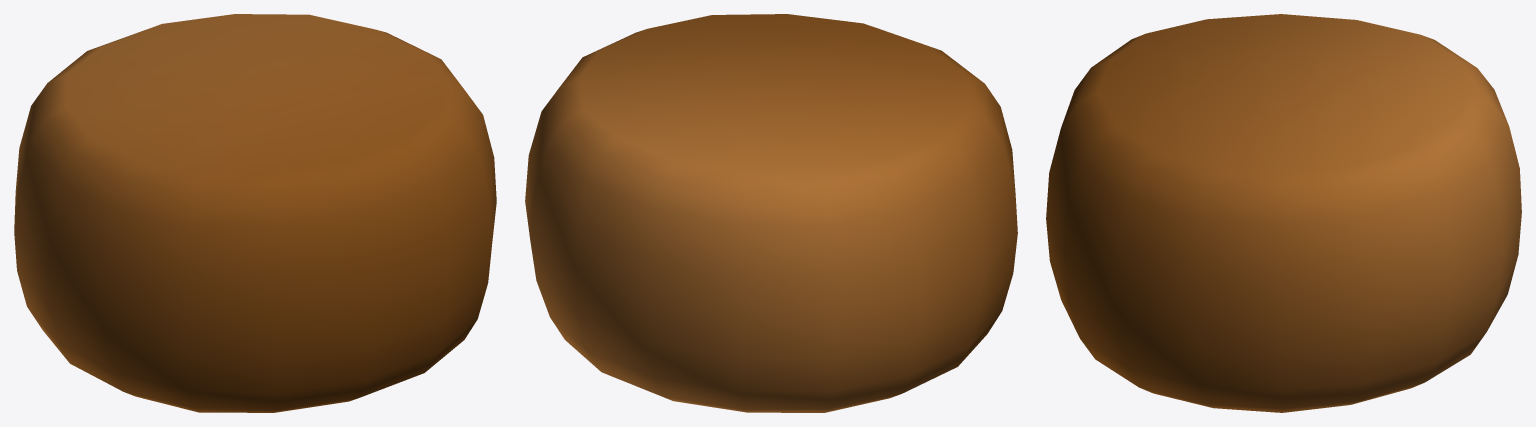
Rendered from Bread_2 Small.fbx.
3 views of the same model, side by side, from view 1: azimuth 30°, elevation 25°; view 2: azimuth 150°, elevation 25°; view 3: azimuth 270°, elevation 25° (orthographic).
Parts seen in each view (by area): view 1: Bread_2 Small; view 2: Bread_2 Small; view 3: Bread_2 Small.
Part boxes in pixels (x1,y1,x2,y2): Bread_2 Small: (14, 14, 496, 412); Bread_2 Small: (525, 14, 1017, 412); Bread_2 Small: (1046, 14, 1521, 412).
Bounding box in the file's own units: 0.1149 × 0.0633 × 0.1125.
1 material, 1 textured.
